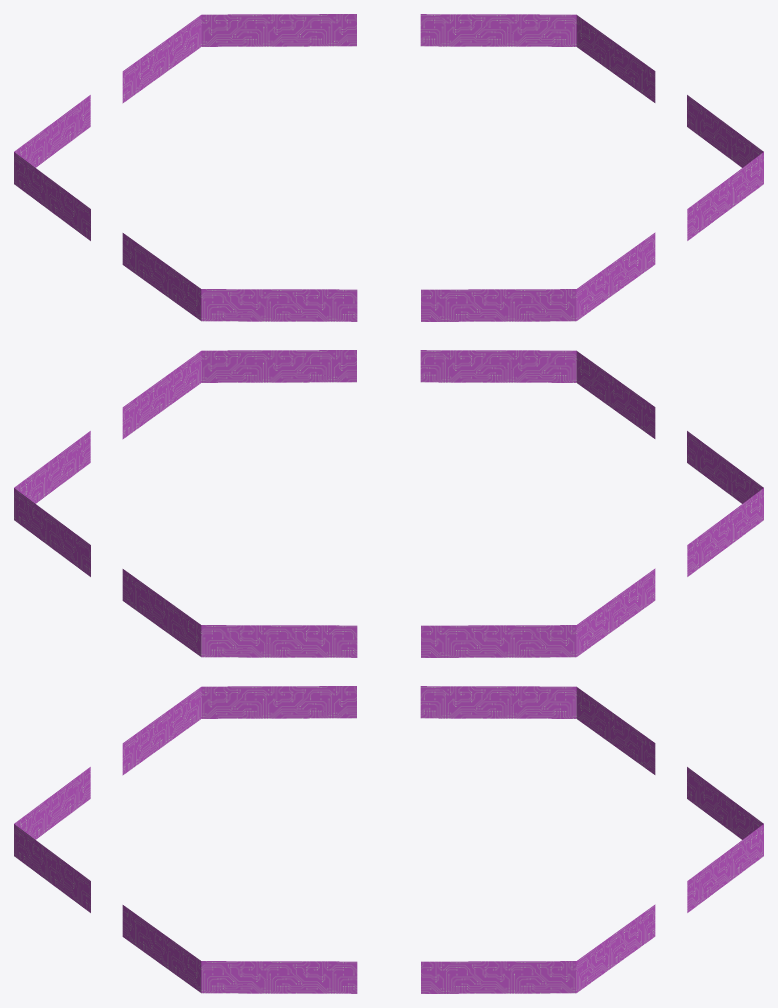
File: Barriers.fbx
3 views of the same model, one above another, from view 1: azimuth 30°, elevation 25°; view 2: azimuth 150°, elevation 25°; view 3: azimuth 270°, elevation 25° (orthographic).
Visible parts, largest first — view 1: PlatformBarrier01_Art; view 2: PlatformBarrier01_Art; view 3: PlatformBarrier01_Art.
Boxes of the visible parts, x1,y1,x2,y2 form: PlatformBarrier01_Art: (14,14,763,321); PlatformBarrier01_Art: (14,350,763,657); PlatformBarrier01_Art: (14,686,763,993).
Bounding box in the file's own units: 5892 × 322 × 6775.
